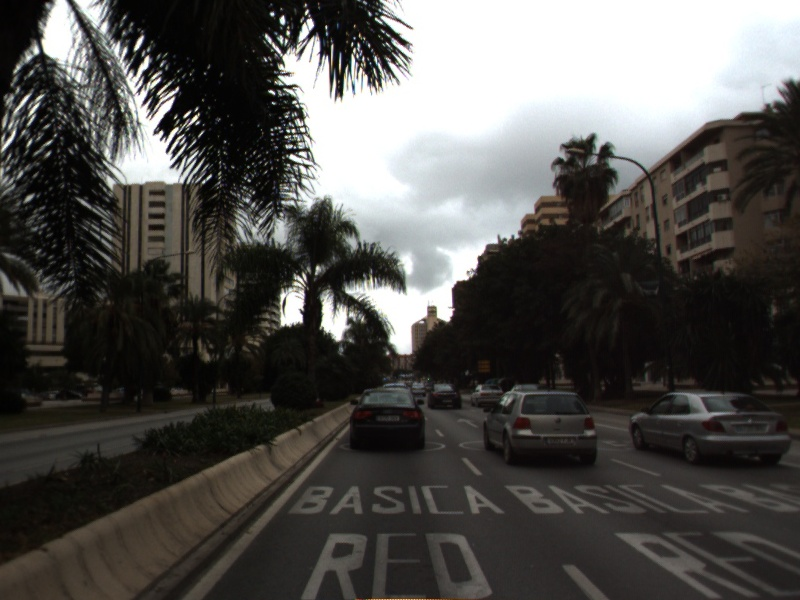STRAIGHT: (455, 416, 482, 430)
